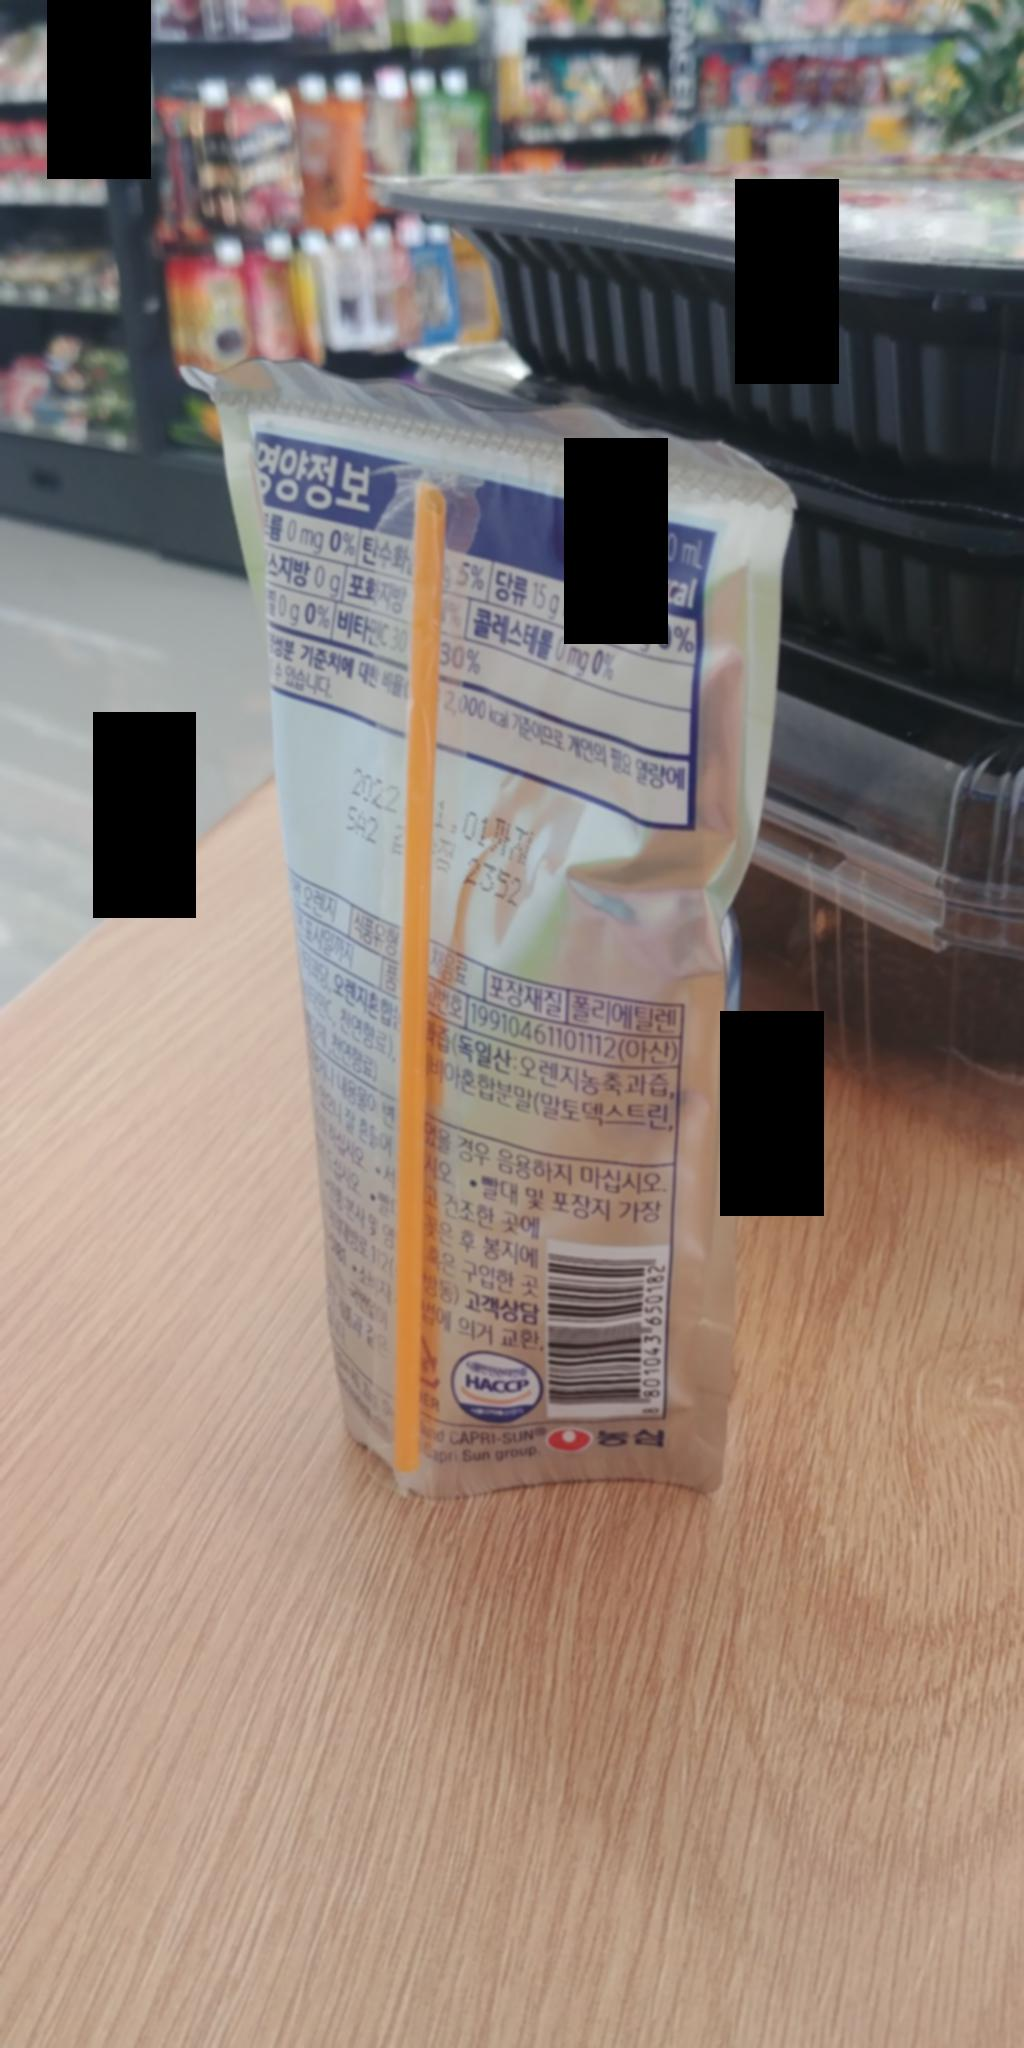cafrisun: (154, 307, 772, 1532)
